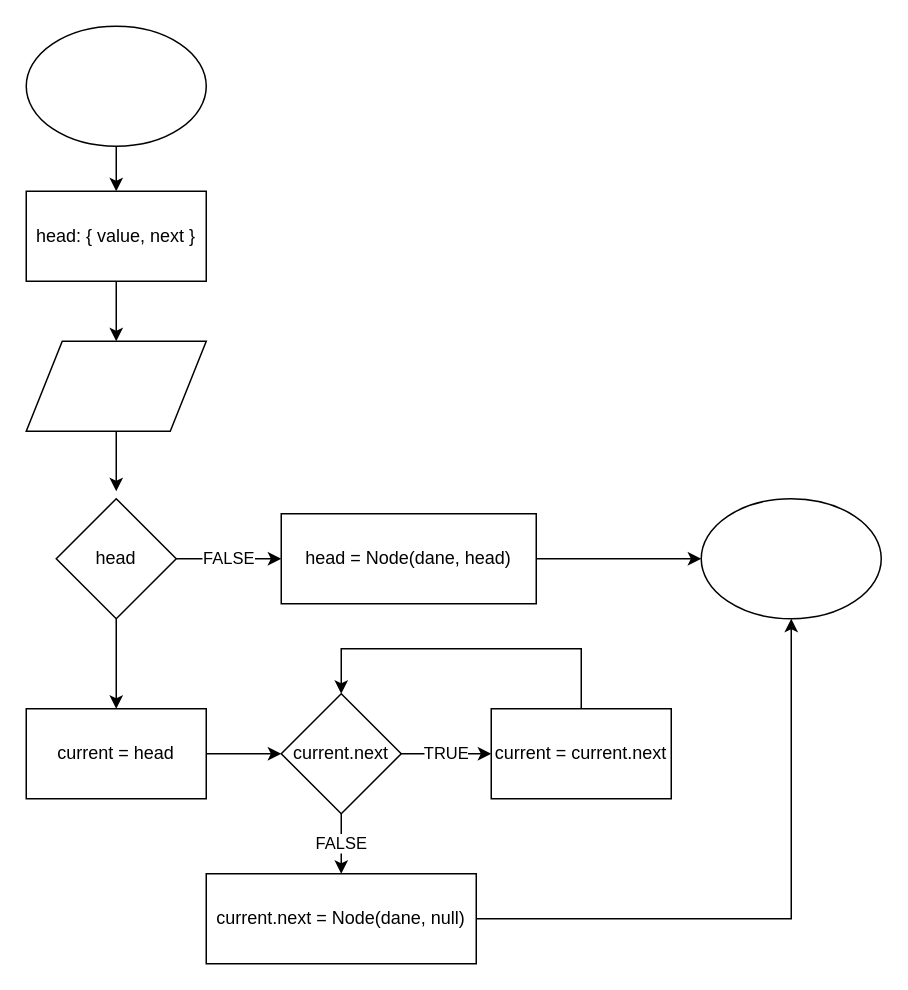
The diagram is 908 pixels wide and 990 high, and some of its shapes have lost their labels. Here are the shapes that lost their labels. From the top down, the box of each, then its label:
(25, 25, 206, 146): START
(25, 340, 206, 431): dane
(700, 497, 881, 619): STOP
